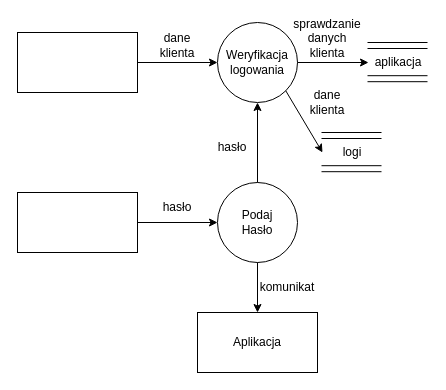
Image size: 446x390. Some labels were removed from this diagram. Each missing label, with the centre of its shape:
"Klient" belongs at pixel 77 62.
"Telefon" belongs at pixel 77 222.
